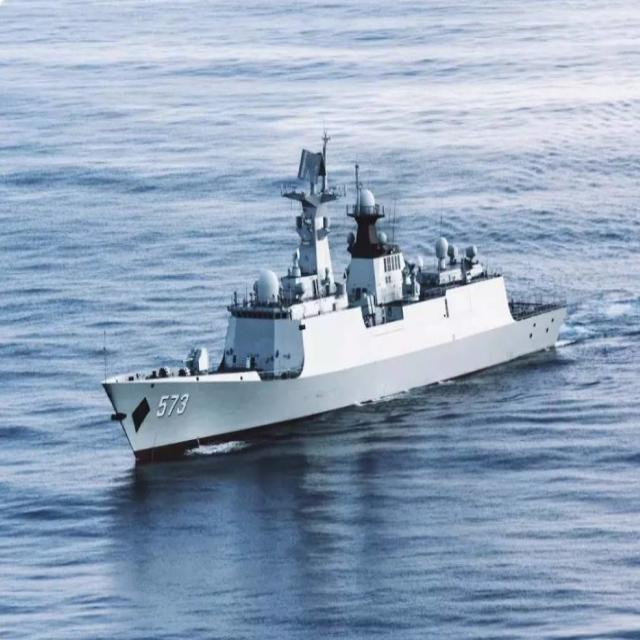navalvessels: (82, 121, 590, 468)
